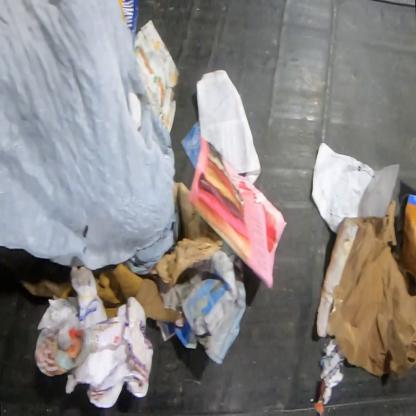cardboard: (93, 262, 183, 323), (0, 246, 76, 300), (400, 191, 415, 284)
soft_plastic: (0, 0, 180, 275)
